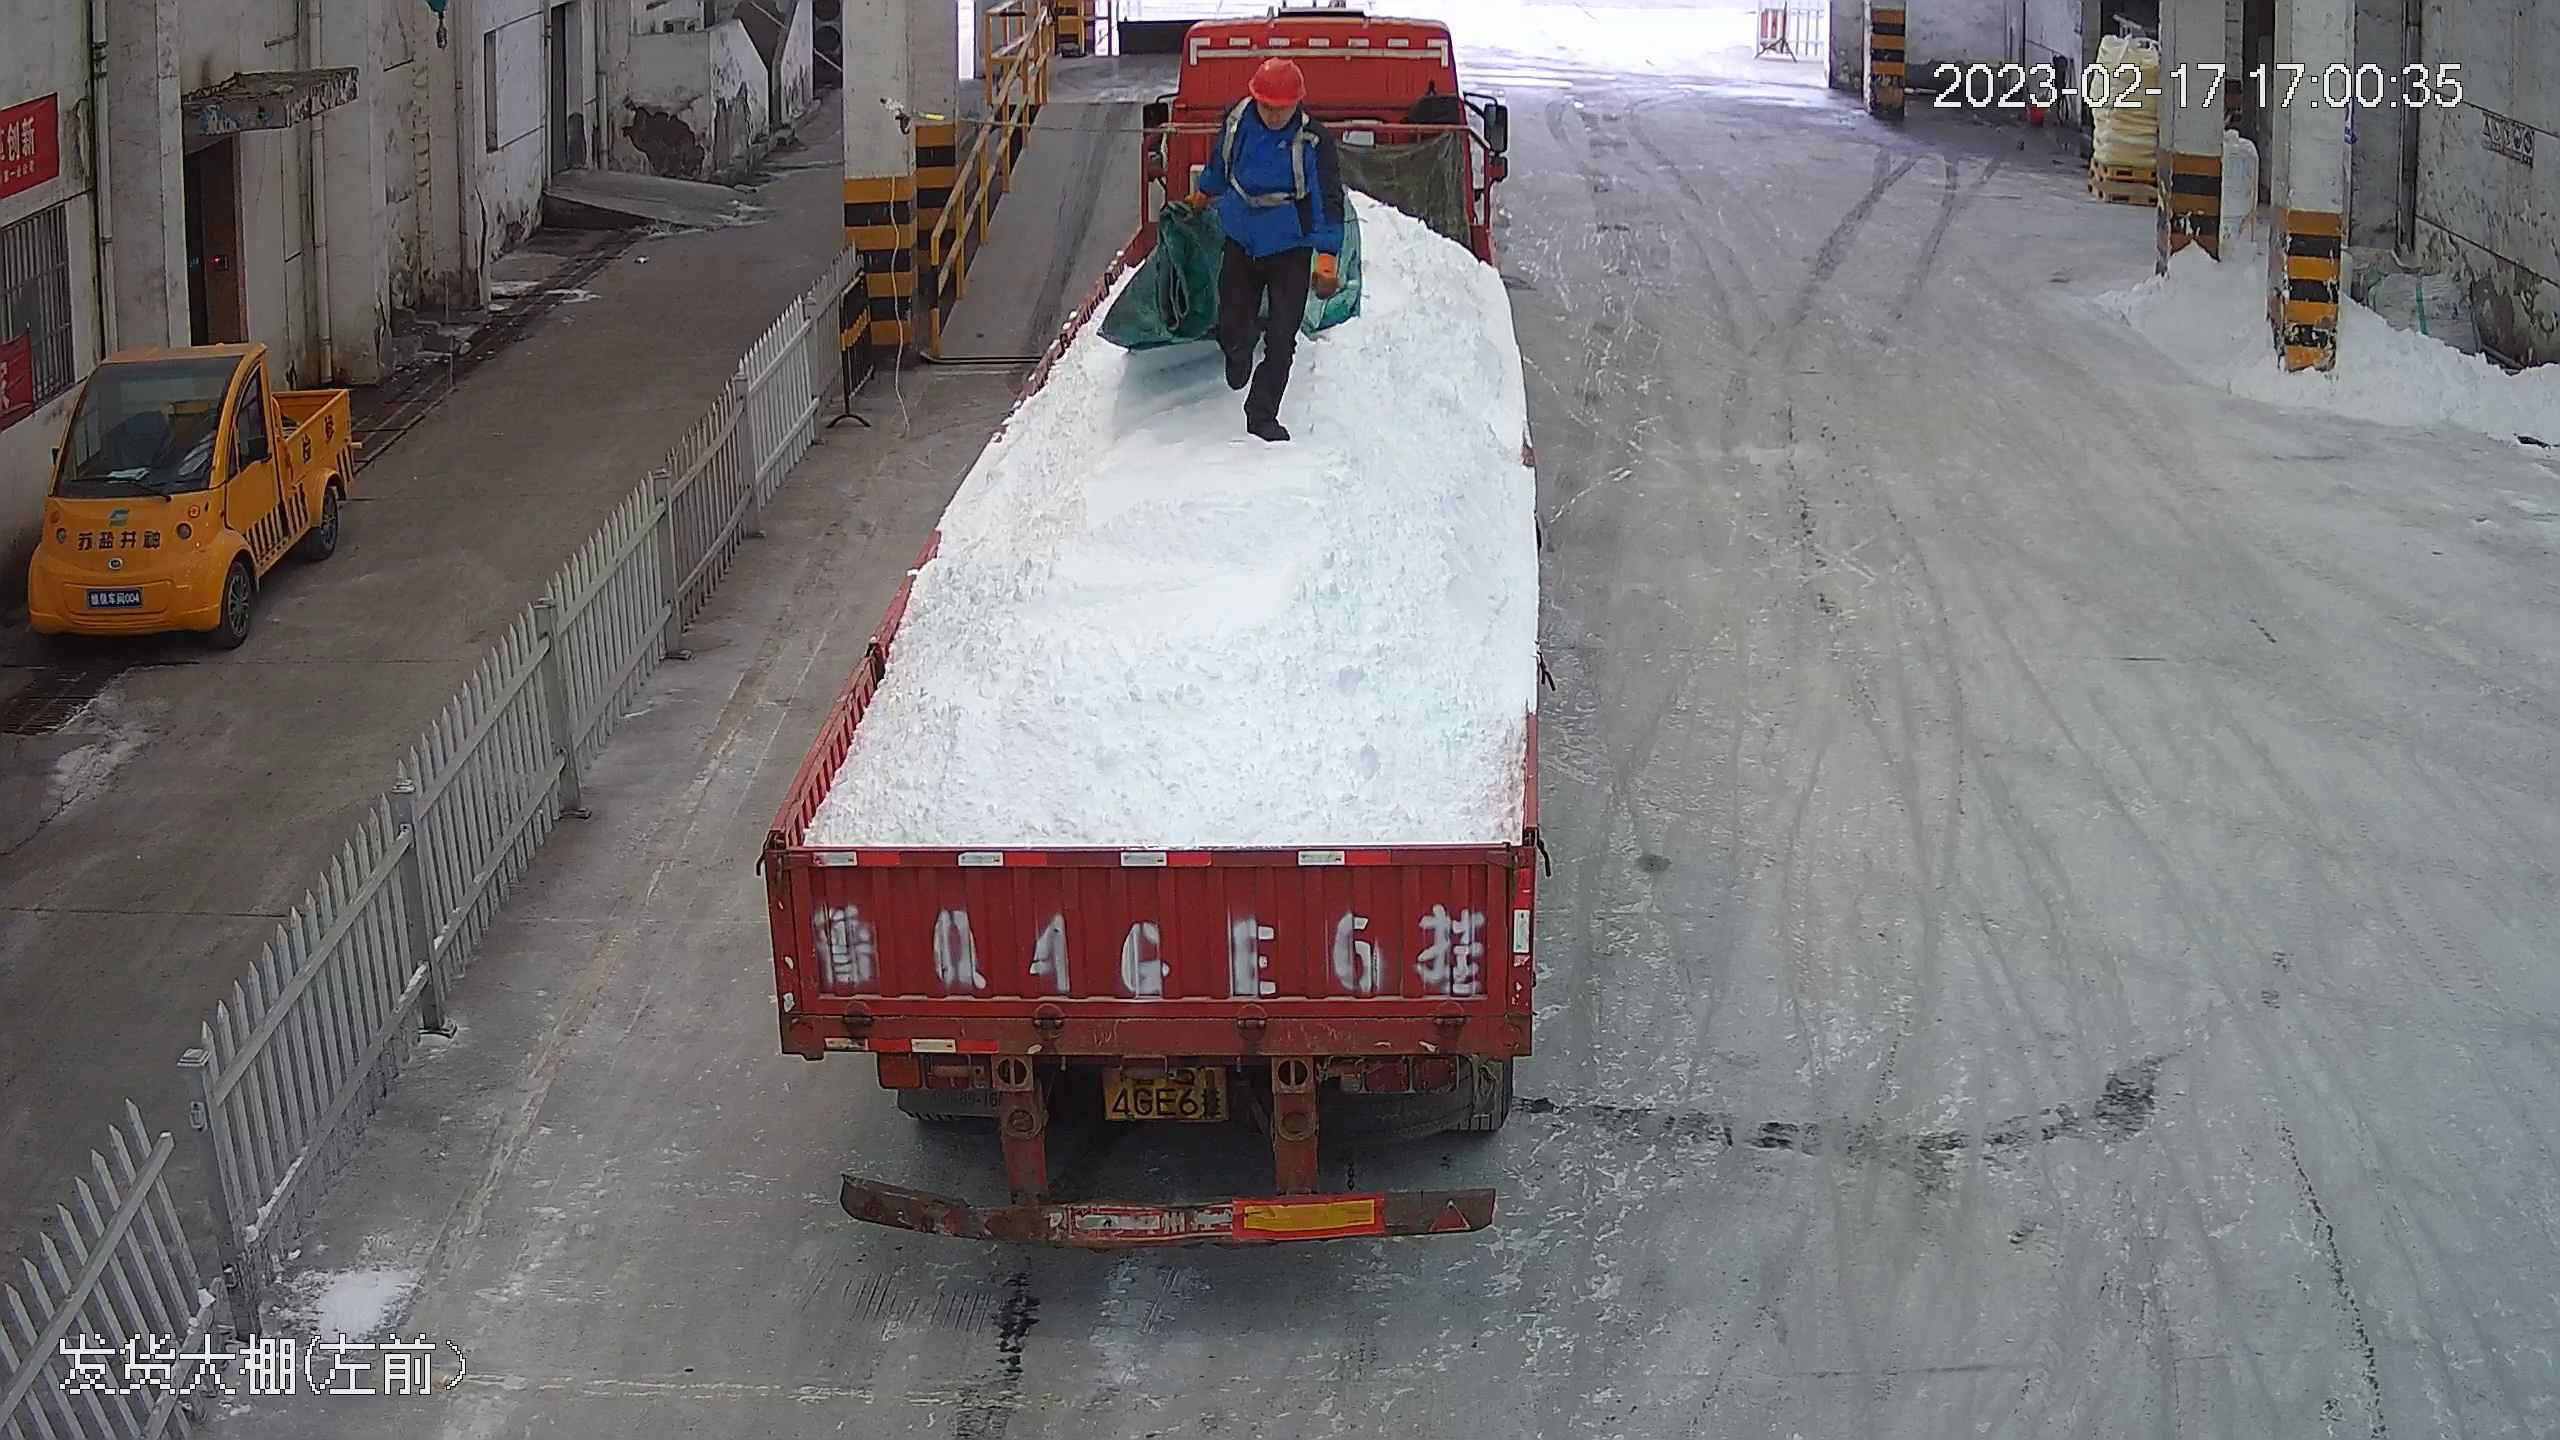belt: (1208, 93, 1323, 211)
head: (1217, 56, 1337, 158)
helmet: (1247, 57, 1308, 108)
people: (1181, 54, 1347, 445)
truck: (753, 1, 1563, 1250)
